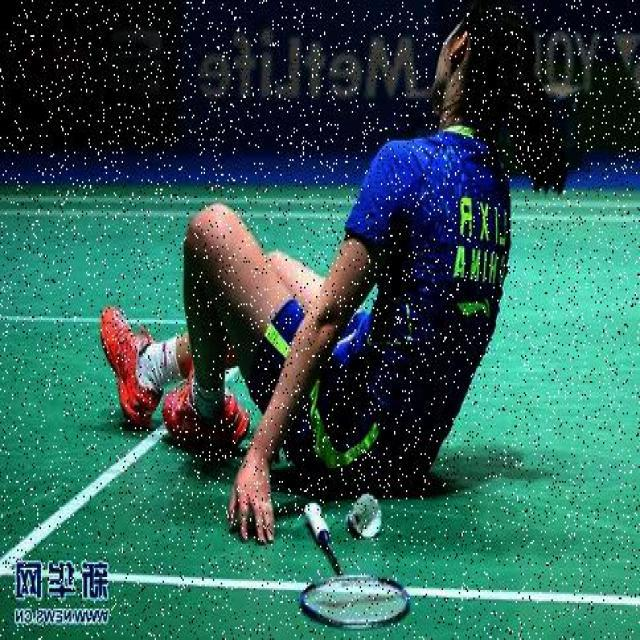fall: (116, 12, 552, 484)
